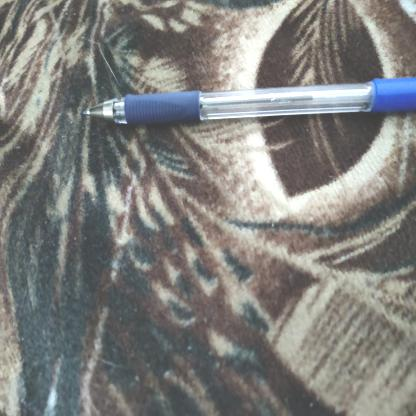pen: (77, 34, 415, 215)
